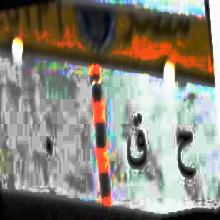0: (40, 130, 60, 168)
7aa: (174, 123, 197, 188)
qaaf: (123, 107, 148, 180)
